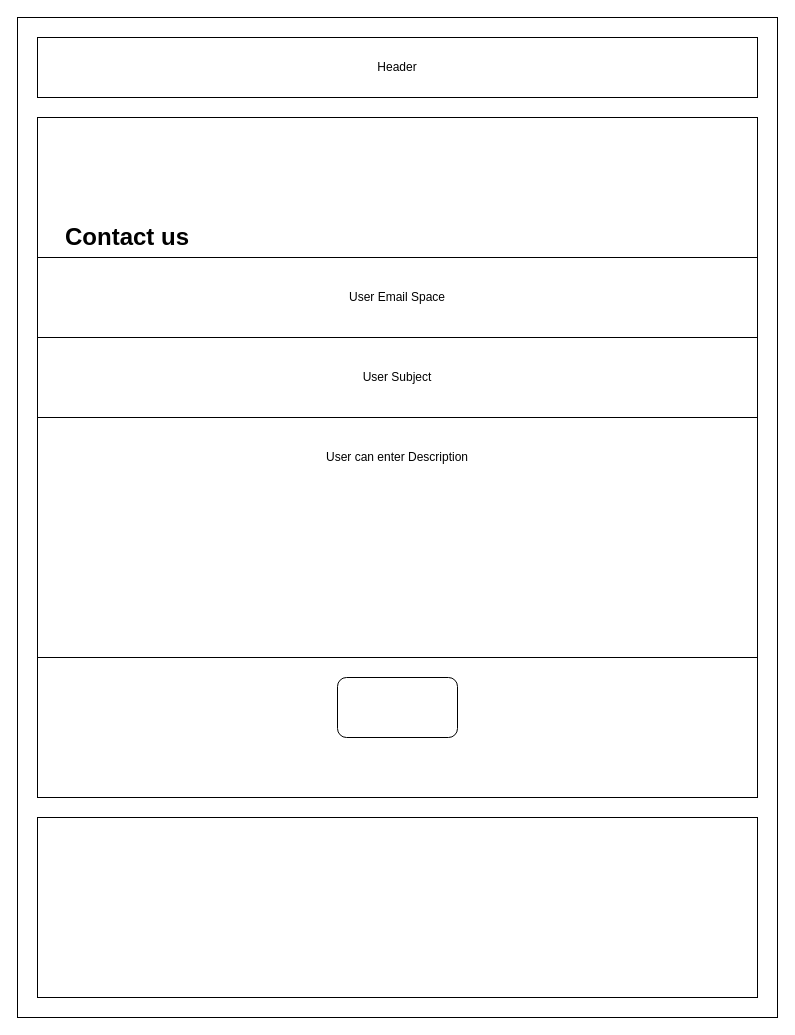
Some shapes in this 795 by 1035 pixel diagram are drawn without their labels. Here are the shapes that lost their labels. From the top down, the centre of each, then its label:
At pixel 397 707: "Send".
At pixel 397 907: "Footer".
